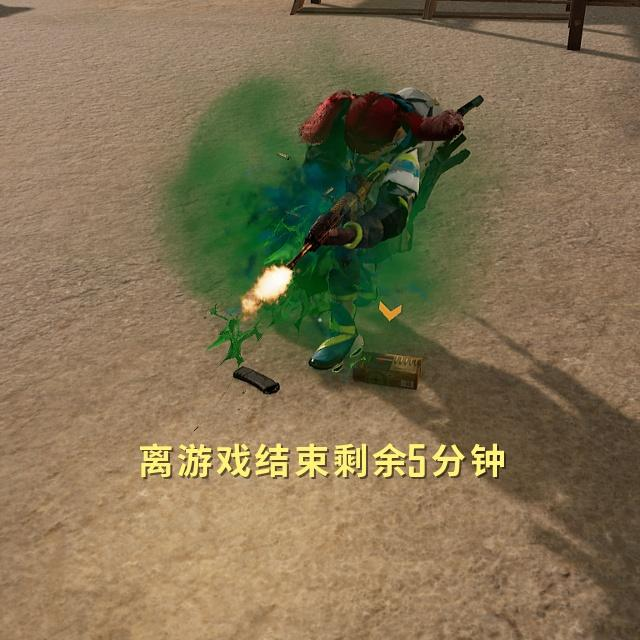head: (333, 92, 405, 165)
people: (233, 76, 446, 381)
